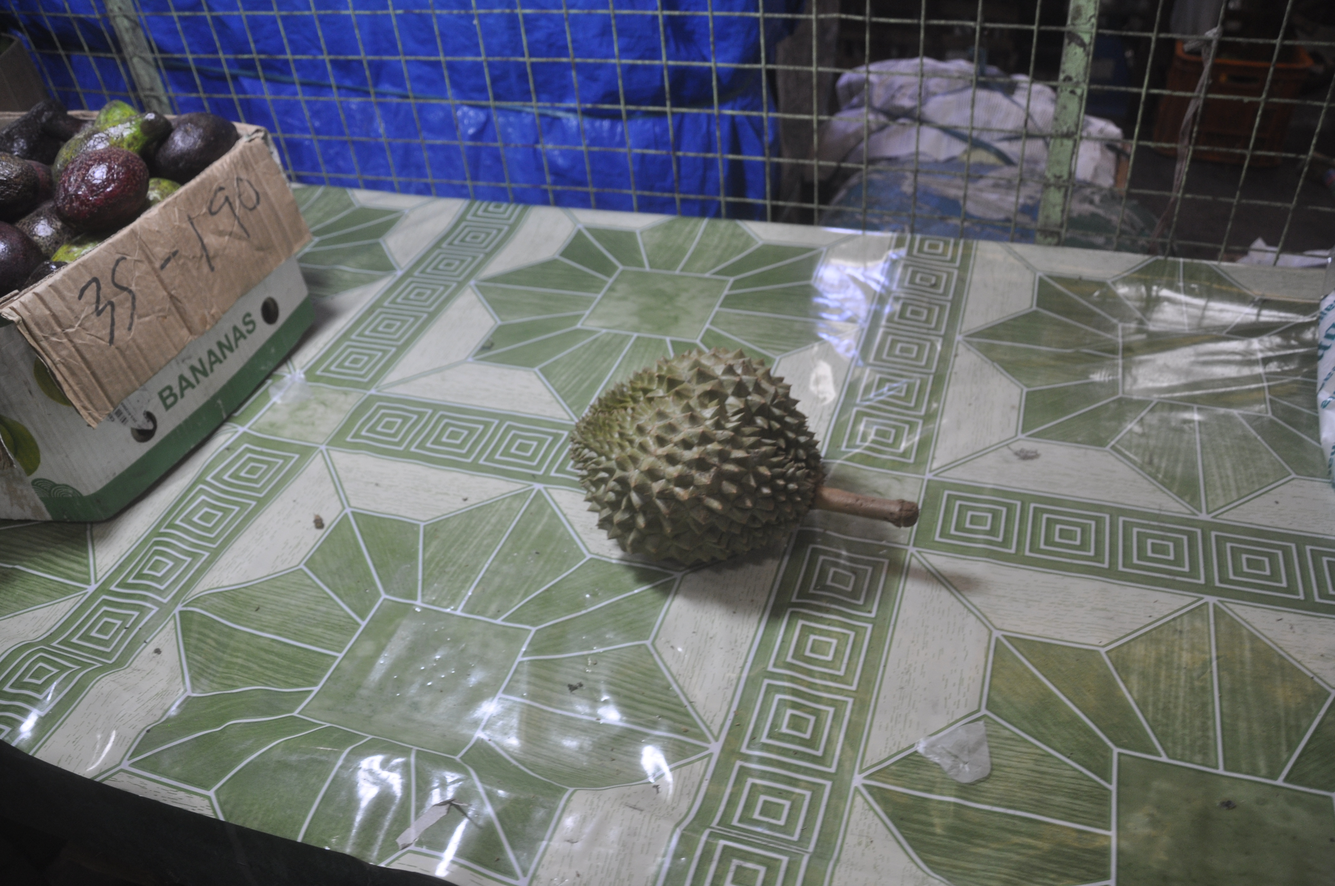mature: (569, 348, 824, 565)
